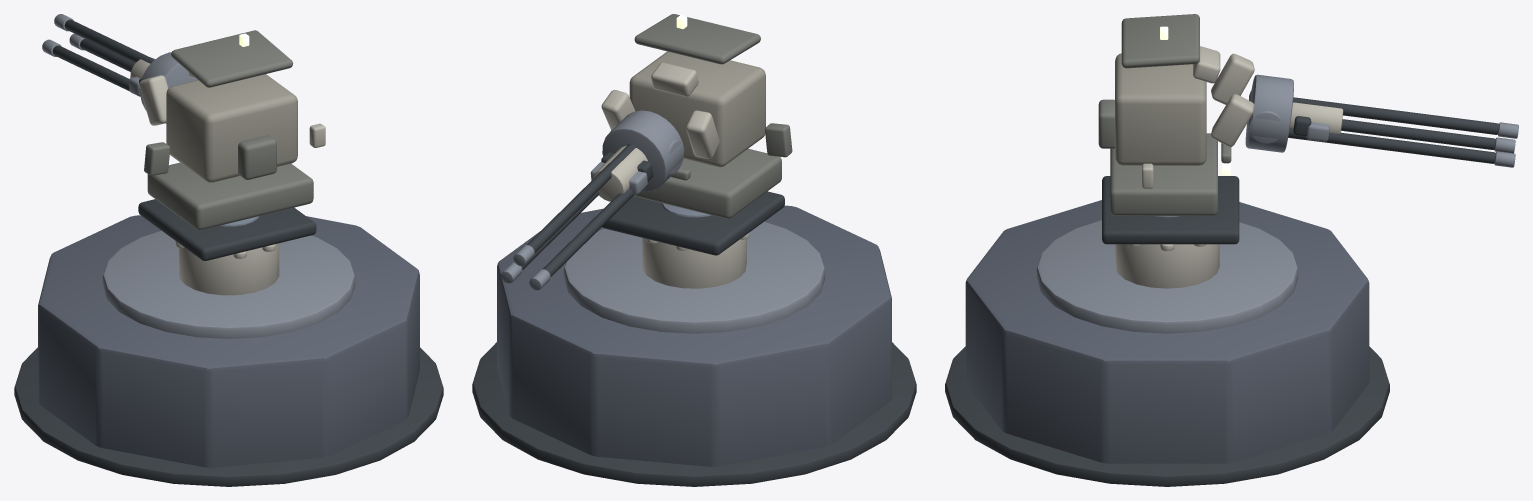
File: mg7_lvl3.glb
The picture shows the model from 3 angles, left to right: view 1: azimuth 30°, elevation 25°; view 2: azimuth 150°, elevation 25°; view 3: azimuth 270°, elevation 25°; orthographic projection. The views are drawn at different scales.
Parts seen in each view (by area): view 1: pedestal_skirt, pedestal_ring, pedestal_lower_ring, hull_main, hull_lower, turret_deck, roof, pedestal_collar, rear_box, front_cheek_left, barrel_01, mantlet (+3 smaller); view 2: pedestal_skirt, pedestal_ring, pedestal_lower_ring, hull_main, turret_deck, hull_lower, pedestal_collar, roof, mantlet, barrel_01, barrel_02, recoil_sleeve (+4 smaller); view 3: pedestal_skirt, pedestal_ring, pedestal_lower_ring, hull_main, hull_lower, turret_deck, pedestal_collar, roof, mantlet, barrel_01, barrel_03, barrel_02 (+5 smaller).
Boxes of the visible parts, left/top/right/bottom form: pedestal_skirt: left=38, top=215, right=419, bottom=467; pedestal_ring: left=102, top=230, right=355, bottom=338; pedestal_lower_ring: left=14, top=347, right=443, bottom=486; hull_main: left=166, top=74, right=297, bottom=182; hull_lower: left=147, top=162, right=313, bottom=230; turret_deck: left=138, top=199, right=316, bottom=260; roof: left=171, top=30, right=293, bottom=87; pedestal_collar: left=178, top=243, right=279, bottom=295; rear_box: left=238, top=135, right=276, bottom=179; front_cheek_left: left=139, top=75, right=168, bottom=125; barrel_01: left=64, top=19, right=154, bottom=63; mantlet: left=140, top=52, right=197, bottom=123; pedestal_skirt: left=497, top=205, right=891, bottom=466; pedestal_ring: left=563, top=221, right=825, bottom=333; pedestal_lower_ring: left=472, top=342, right=916, bottom=486; hull_main: left=629, top=51, right=765, bottom=167; turret_deck: left=602, top=191, right=784, bottom=255; hull_lower: left=633, top=148, right=781, bottom=218; pedestal_collar: left=642, top=238, right=746, bottom=288; roof: left=634, top=14, right=760, bottom=64; mantlet: left=602, top=110, right=684, bottom=192; barrel_01: left=527, top=143, right=636, bottom=252; barrel_02: left=542, top=173, right=653, bottom=276; recoil_sleeve: left=592, top=145, right=647, bottom=201; pedestal_skirt: left=965, top=200, right=1369, bottom=463; pedestal_ring: left=1036, top=220, right=1298, bottom=333; pedestal_lower_ring: left=945, top=346, right=1389, bottom=486; hull_main: left=1115, top=53, right=1206, bottom=165; hull_lower: left=1110, top=133, right=1217, bottom=215; turret_deck: left=1102, top=176, right=1239, bottom=244; pedestal_collar: left=1115, top=244, right=1219, bottom=288; roof: left=1121, top=14, right=1199, bottom=68; mantlet: left=1245, top=74, right=1293, bottom=152; barrel_01: left=1293, top=97, right=1499, bottom=134; barrel_03: left=1288, top=127, right=1495, bottom=163; barrel_02: left=1341, top=119, right=1495, bottom=149.
Bounding box in the file's own units: 1.36 × 1.27 × 1.75.
